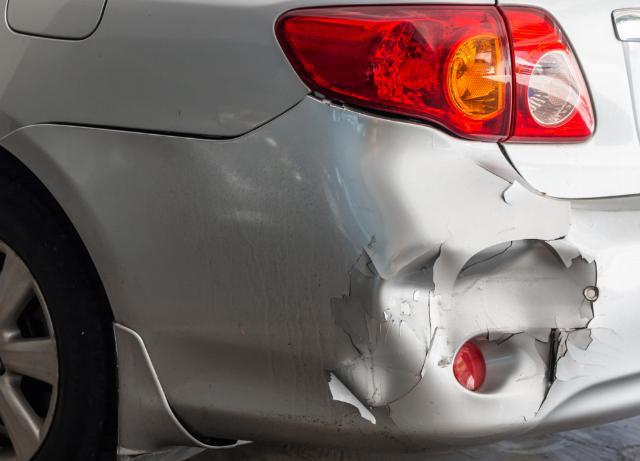crack: (536, 333, 559, 418)
dent: (333, 140, 598, 399)
